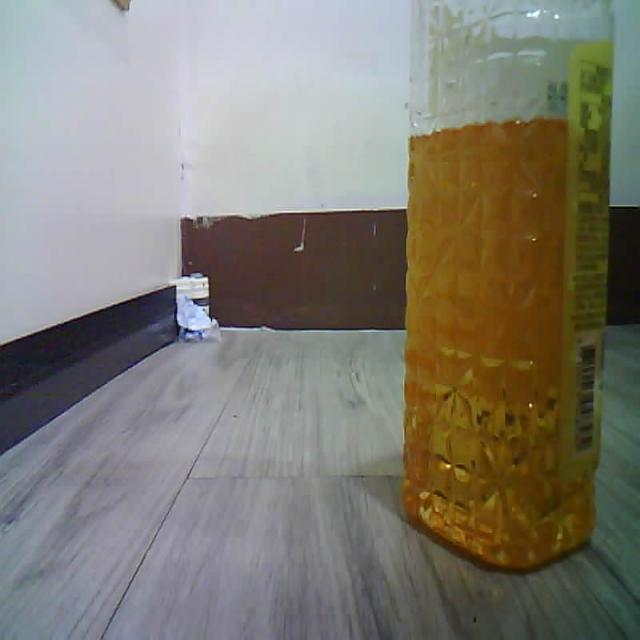bottle: (402, 0, 613, 567)
